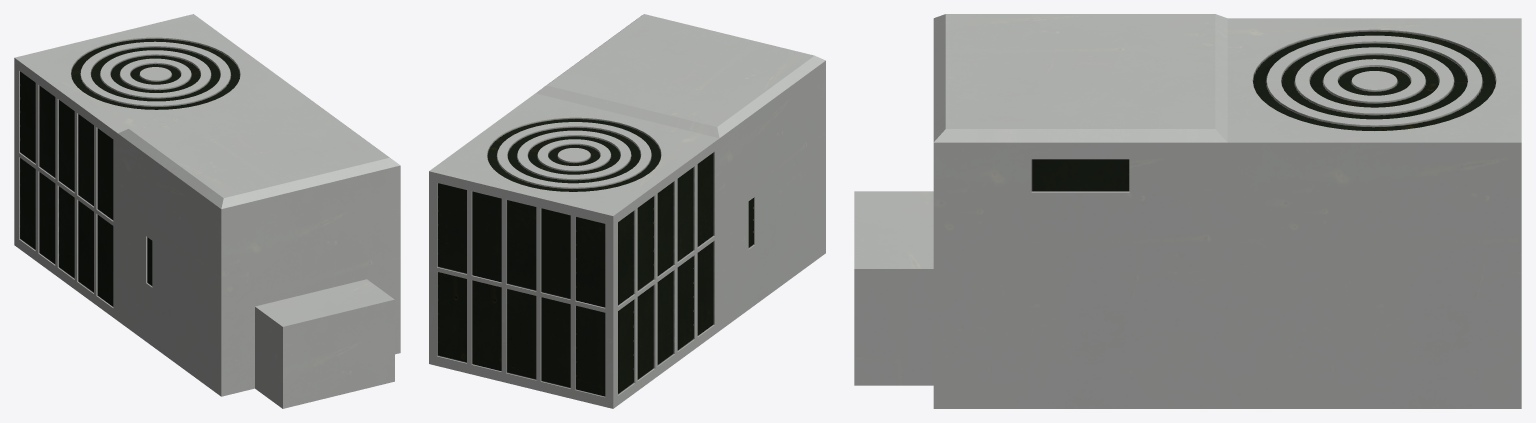
Rendered from Vetrak_Strecha.fbx.
3 renders of one model, left to right at view 1: azimuth 30°, elevation 25°; view 2: azimuth 150°, elevation 25°; view 3: azimuth 270°, elevation 25°, orthographic. The views are drawn at different scales.
Visible parts, largest first — view 1: Vetrak_Strecha; view 2: Vetrak_Strecha; view 3: Vetrak_Strecha.
Boxes of the visible parts, <box> form: Vetrak_Strecha: <box>14,14,400,408</box>; Vetrak_Strecha: <box>429,14,825,408</box>; Vetrak_Strecha: <box>854,14,1521,408</box>.
Size of the model in its own units: 150 by 155 by 340.
